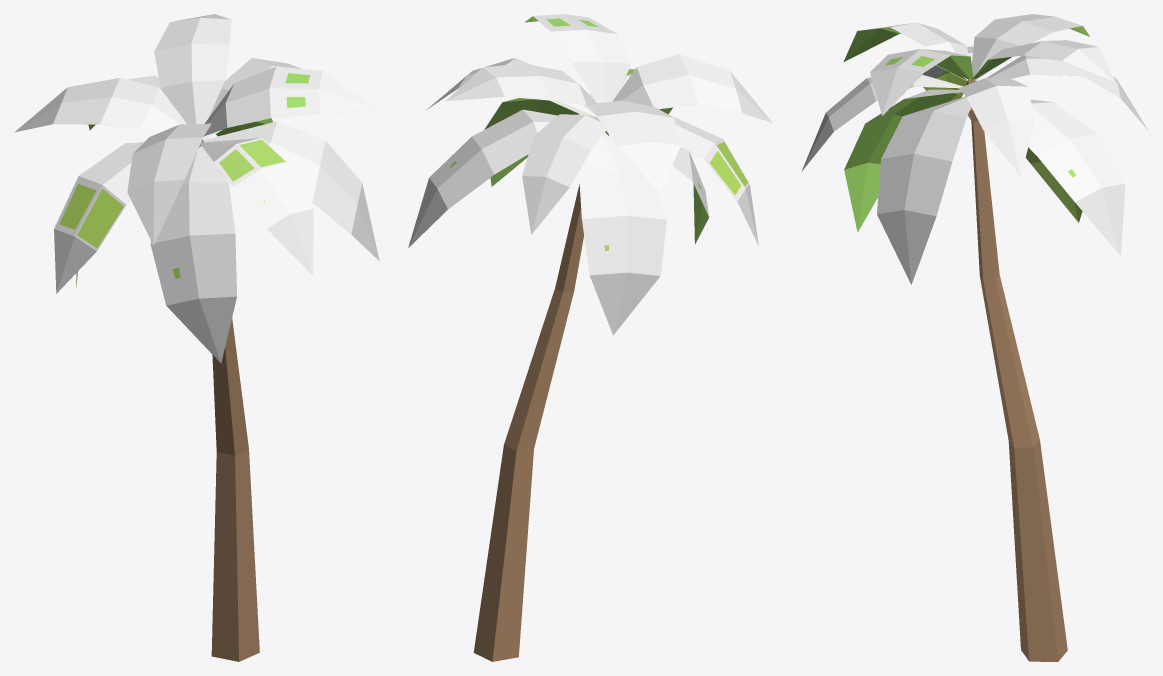
Rendered from Palm_Tree_l_Snow_06.fbx.
The picture shows the model from 3 angles, left to right: view 1: azimuth 30°, elevation 25°; view 2: azimuth 150°, elevation 25°; view 3: azimuth 270°, elevation 25°; orthographic projection. The views are drawn at different scales.
Visible parts, largest first — view 1: Palm_Tree_l_Snow_06; view 2: Palm_Tree_l_Snow_06; view 3: Palm_Tree_l_Snow_06.
Part boxes in pixels (x1=…): Palm_Tree_l_Snow_06: x1=15, y1=14, x2=379, y2=661; Palm_Tree_l_Snow_06: x1=408, y1=14, x2=772, y2=661; Palm_Tree_l_Snow_06: x1=801, y1=14, x2=1148, y2=661.
Size of the model in its own units: 377 by 712 by 375.
